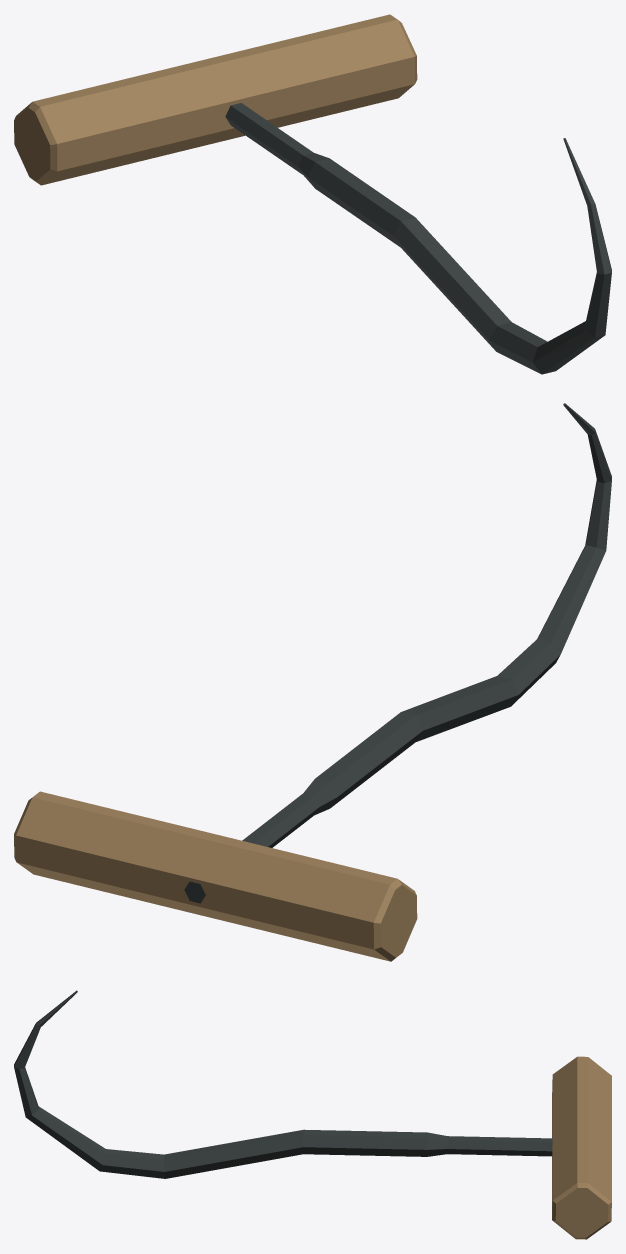
3 views of the same model, one above another, from view 1: azimuth 30°, elevation 25°; view 2: azimuth 150°, elevation 25°; view 3: azimuth 270°, elevation 25° (orthographic). The views are drawn at different scales.
Parts seen in each view (by area): view 1: Wood_T_grip_with_through_hex_bore, Continuous_hex_steel_tang_shank_hook; view 2: Wood_T_grip_with_through_hex_bore, Continuous_hex_steel_tang_shank_hook; view 3: Continuous_hex_steel_tang_shank_hook, Wood_T_grip_with_through_hex_bore.
Part boxes in pixels (x1,y1,x2,y2): Wood_T_grip_with_through_hex_bore: (14, 14, 417, 185); Continuous_hex_steel_tang_shank_hook: (225, 103, 611, 374); Wood_T_grip_with_through_hex_bore: (14, 791, 417, 961); Continuous_hex_steel_tang_shank_hook: (184, 403, 611, 903); Continuous_hex_steel_tang_shank_hook: (14, 990, 552, 1178); Wood_T_grip_with_through_hex_bore: (552, 1056, 611, 1239).
Size of the model in its own units: 0.16 by 0.107 by 0.3123.
